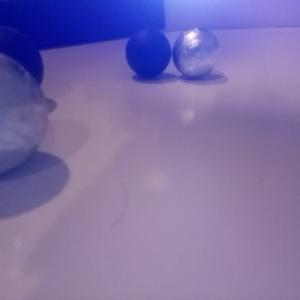alive_ball: (1, 51, 48, 176), (171, 27, 219, 78)
dead_ball: (1, 27, 44, 106), (124, 28, 170, 78)
